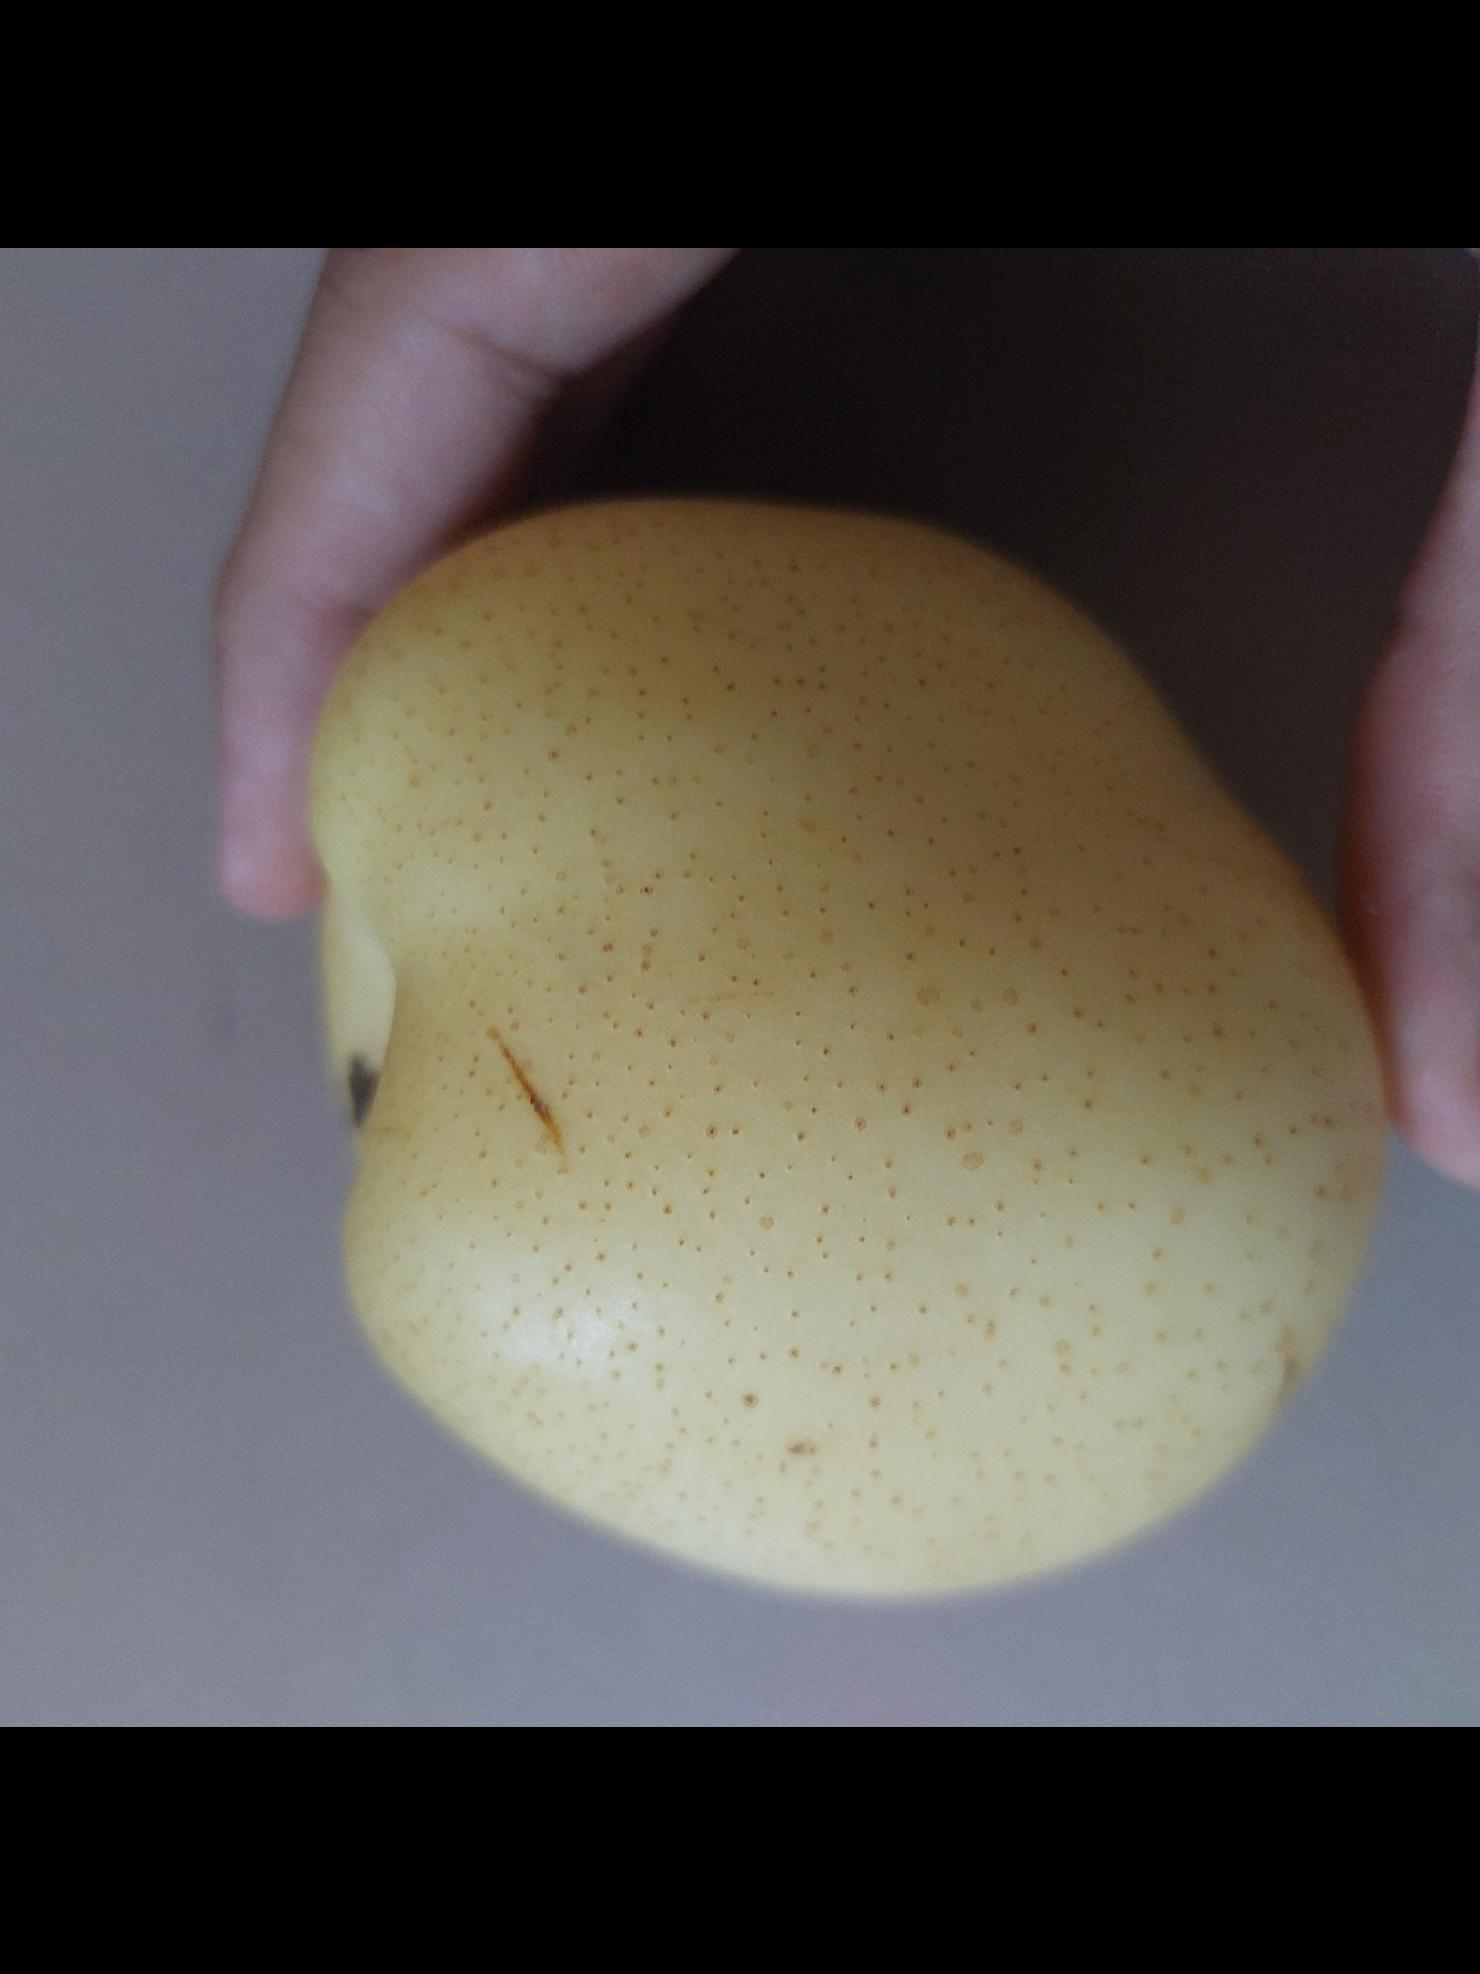Good Pear: (316, 494, 1421, 1612)
